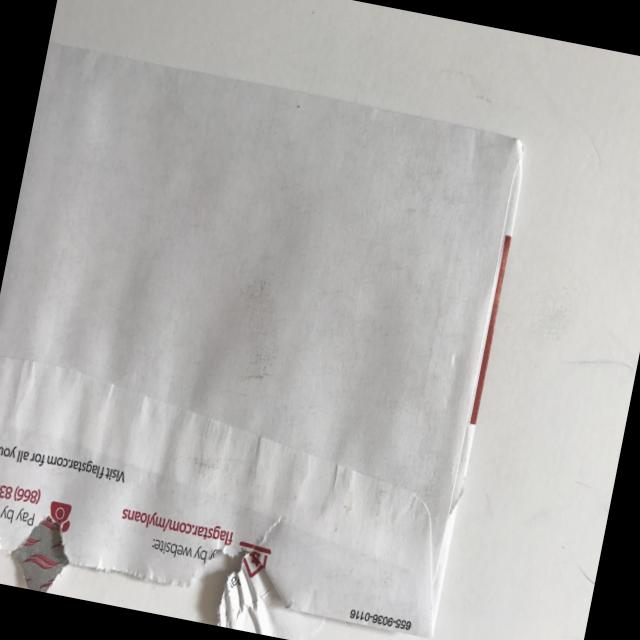Paper: (0, 33, 554, 640)
